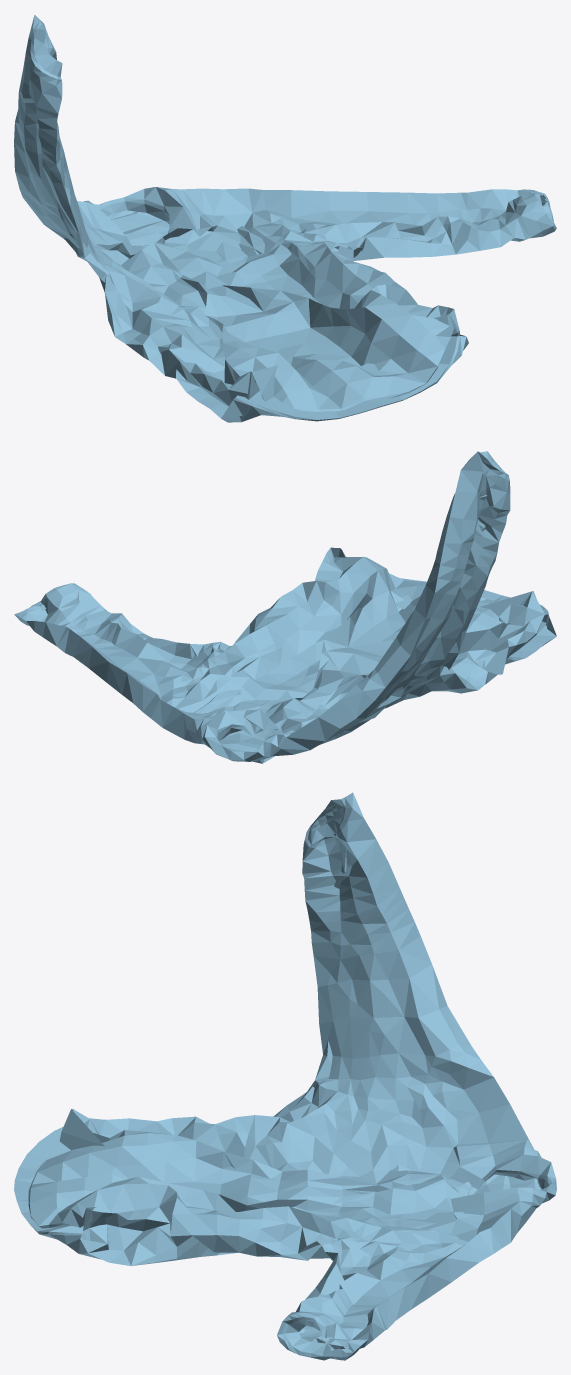
File: frame_09.glb
The picture shows the model from 3 angles, top to bottom: view 1: azimuth 30°, elevation 25°; view 2: azimuth 150°, elevation 25°; view 3: azimuth 270°, elevation 25°; orthographic projection. The views are drawn at different scales.
Visible parts, largest first — view 1: frame_09.obj; view 2: frame_09.obj; view 3: frame_09.obj.
Boxes of the visible parts, x1=… form: frame_09.obj: x1=14, y1=15, x2=556, y2=422; frame_09.obj: x1=14, y1=451, x2=556, y2=763; frame_09.obj: x1=14, y1=792, x2=556, y2=1360.
Bounding box in the file's own units: 1.58 × 0.9532 × 1.38.
